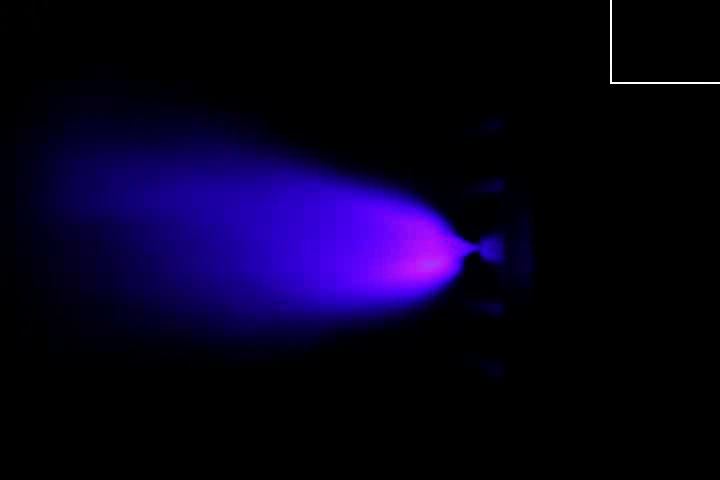burner cap: (482, 237, 509, 263)
unstable: (333, 186, 479, 299)
